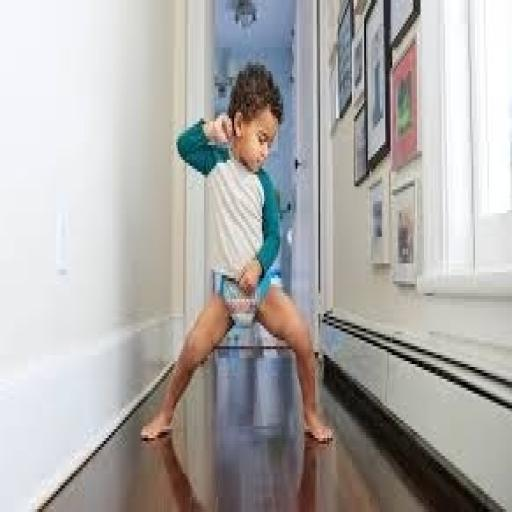dancing: (139, 59, 336, 450)
